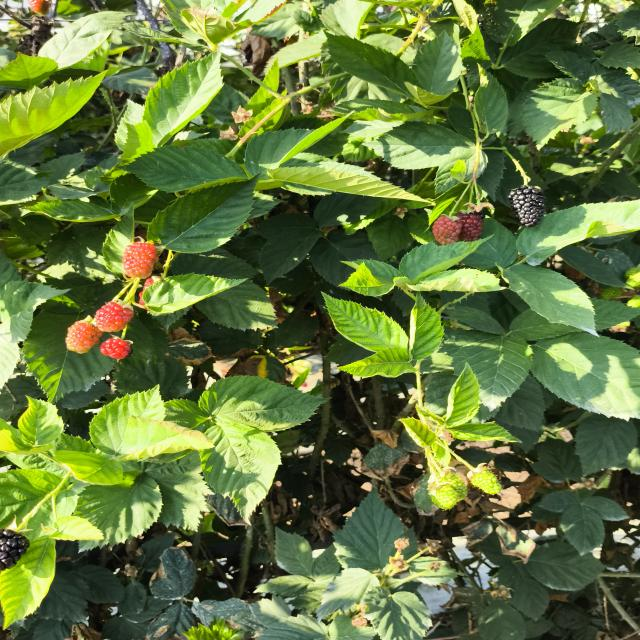maduro: (508, 186, 545, 227), (0, 528, 30, 571)
marron: (459, 213, 483, 241)
naranja: (65, 317, 102, 353), (122, 242, 158, 278), (95, 301, 134, 332), (432, 215, 462, 245), (100, 338, 131, 360)
verde: (467, 465, 502, 495), (429, 482, 461, 509), (439, 470, 467, 500)
